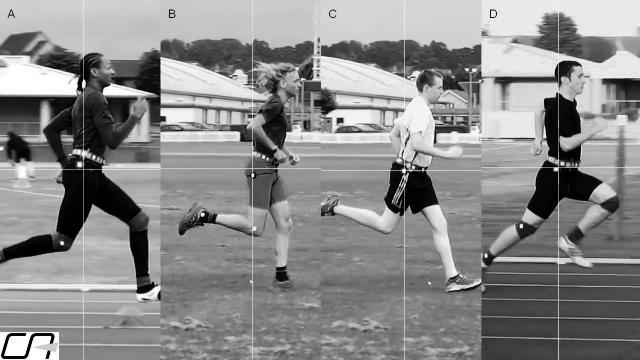berlari: (3, 54, 160, 302), (324, 63, 478, 294), (480, 57, 620, 300), (174, 61, 308, 293)
